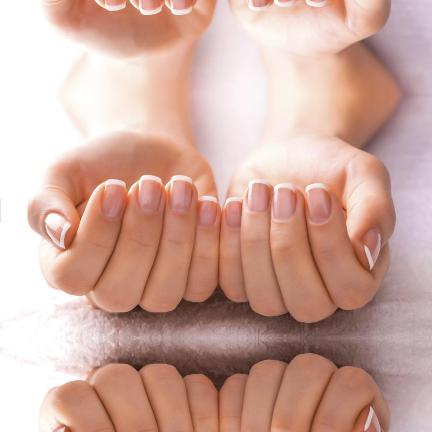Nail: (305, 182, 331, 223), (44, 211, 72, 248), (101, 178, 126, 217), (138, 174, 162, 212), (361, 227, 381, 270), (273, 182, 296, 219), (169, 174, 192, 211), (247, 178, 270, 211), (198, 195, 217, 226), (226, 196, 243, 228), (362, 404, 381, 432), (138, 0, 162, 14), (170, 0, 192, 14), (248, 0, 270, 10), (104, 0, 126, 10), (306, 0, 327, 6), (274, 0, 295, 6), (55, 426, 65, 432)
